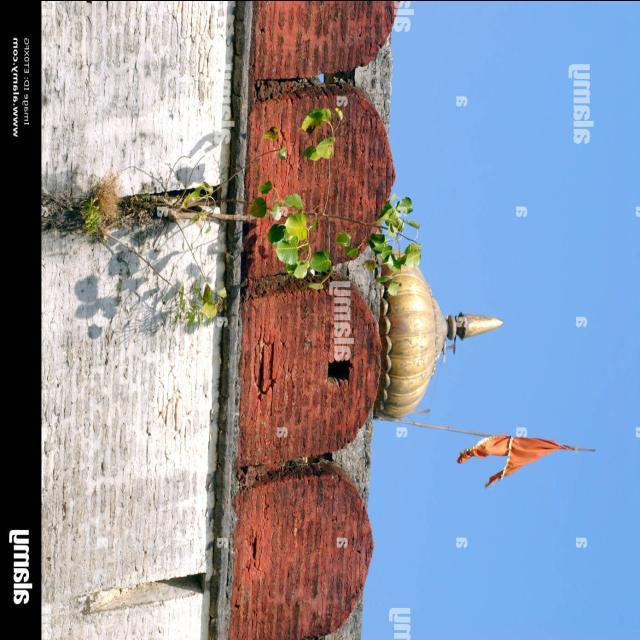Crack: (223, 2, 399, 638)
